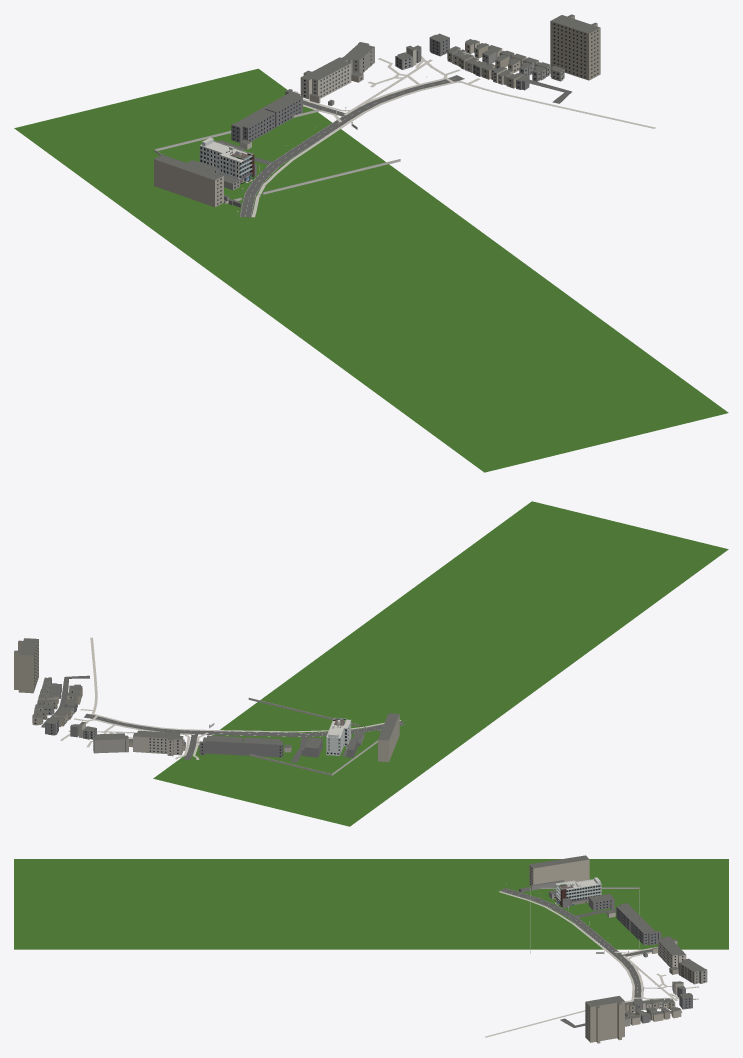
File: route.fbx
The picture shows the model from 3 angles, top to bottom: view 1: azimuth 30°, elevation 25°; view 2: azimuth 150°, elevation 25°; view 3: azimuth 270°, elevation 25°; orthographic projection. The views are drawn at different scales.
Visible parts, largest first — view 1: route_ground, bld_route_background, bld_dorm, bld_route_fence; view 2: route_ground, bld_route_background, bld_dorm, bld_route_fence; view 3: route_ground, bld_route_background, bld_dorm_trim, bld_dorm.
Boxes of the visible parts, x1,y1,x2,y2 form: route_ground: [14, 53, 728, 472]; bld_route_background: [154, 14, 600, 207]; bld_dorm: [199, 140, 254, 184]; bld_route_fence: [154, 108, 400, 203]; route_ground: [41, 501, 728, 826]; bld_route_background: [14, 638, 399, 762]; bld_dorm: [326, 717, 351, 755]; bld_route_fence: [191, 697, 381, 775]; route_ground: [14, 859, 728, 1037]; bld_route_background: [519, 855, 707, 1043]; bld_dorm_trim: [555, 877, 601, 906]; bld_dorm: [555, 879, 601, 906].
Size of the model in its own units: 427 by 38.8 by 700.
